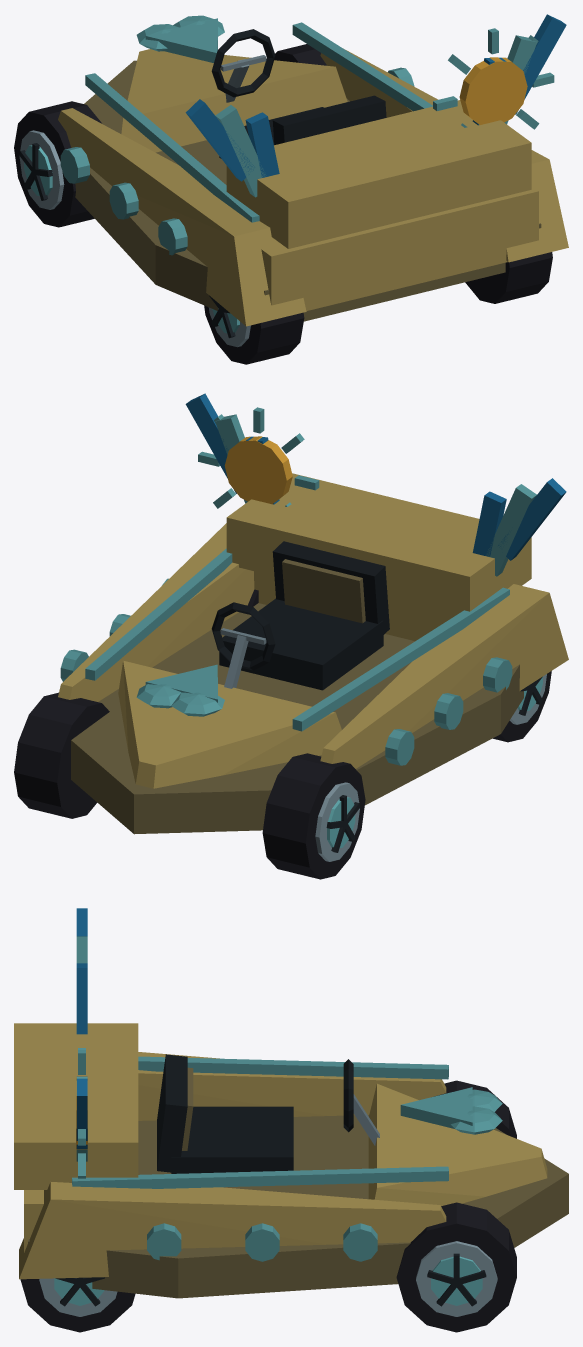
File: kart.glb
3 views of the same model, one above another, from view 1: azimuth 30°, elevation 25°; view 2: azimuth 150°, elevation 25°; view 3: azimuth 270°, elevation 25° (orthographic).
Parts seen in each view (by area): view 1: identity-ship-ship-pointed-bow-and-raised-stern, identity-ship-motif-feathers, wheel-front-left, identity-ship-driver-cockpit, identity-ship-motif-sun, wheel-rear-left, identity-ship-motif-heart, wheel-rear-right, wheel-front-right; view 2: identity-ship-ship-pointed-bow-and-raised-stern, identity-ship-driver-cockpit, wheel-front-left, wheel-front-right, identity-ship-motif-feathers, identity-ship-motif-sun, identity-ship-motif-heart, wheel-rear-left; view 3: identity-ship-ship-pointed-bow-and-raised-stern, identity-ship-driver-cockpit, wheel-front-right, wheel-rear-right, identity-ship-motif-heart, identity-ship-motif-feathers, wheel-front-left, identity-ship-motif-sun.
Boxes of the visible parts, x1,y1,x2,y2 form: identity-ship-ship-pointed-bow-and-raised-stern: [58, 22, 568, 326]; identity-ship-motif-feathers: [185, 14, 566, 197]; wheel-front-left: [14, 101, 101, 227]; identity-ship-driver-cockpit: [211, 29, 386, 158]; identity-ship-motif-sun: [433, 28, 554, 129]; wheel-rear-left: [204, 295, 304, 364]; identity-ship-motif-heart: [136, 15, 224, 62]; wheel-rear-right: [465, 252, 552, 303]; wheel-front-right: [274, 44, 326, 65]; identity-ship-ship-pointed-bow-and-raised-stern: [58, 473, 568, 834]; identity-ship-driver-cockpit: [211, 541, 389, 690]; wheel-front-left: [262, 753, 365, 879]; wheel-front-right: [14, 692, 109, 818]; identity-ship-motif-feathers: [185, 393, 566, 576]; identity-ship-motif-sun: [198, 407, 319, 508]; identity-ship-motif-heart: [136, 664, 224, 716]; wheel-rear-left: [493, 671, 551, 742]; identity-ship-ship-pointed-bow-and-raised-stern: [14, 1023, 568, 1298]; identity-ship-driver-cockpit: [157, 1054, 379, 1173]; wheel-front-right: [396, 1202, 516, 1332]; wheel-rear-right: [20, 1277, 135, 1332]; identity-ship-motif-heart: [400, 1087, 502, 1134]; identity-ship-motif-feathers: [76, 908, 87, 1161]; wheel-front-left: [434, 1080, 516, 1138]; identity-ship-motif-sun: [76, 1048, 87, 1178].
Size of the model in its own units: 2.18 by 1.47 by 2.77.
